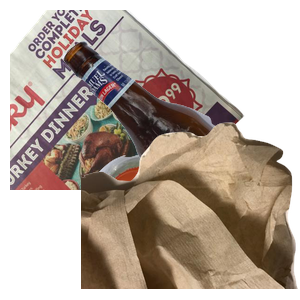glass: (60, 38, 300, 218)
paper: (10, 10, 247, 190)
plastic: (91, 152, 281, 300)
trash: (81, 120, 300, 300)
